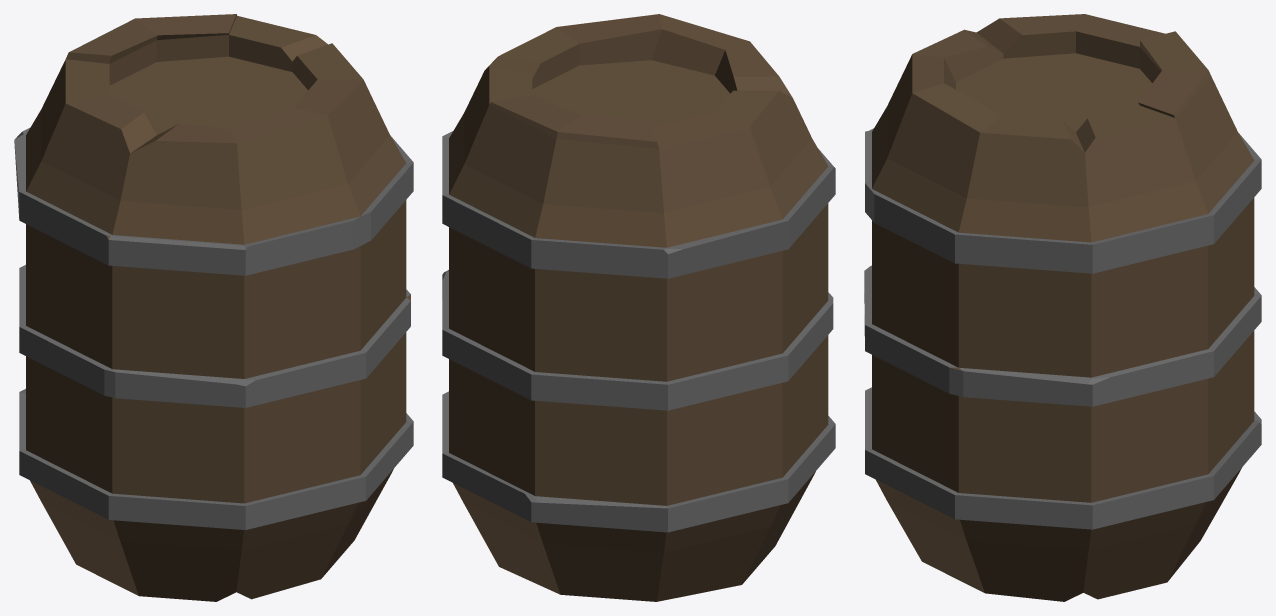
File: Low Poly Barrel#1.fbx
3 views of the same model, side by side, from view 1: azimuth 30°, elevation 25°; view 2: azimuth 150°, elevation 25°; view 3: azimuth 270°, elevation 25° (orthographic).
Parts seen in each view (by area): view 1: Low Poly Barrel #1; view 2: Low Poly Barrel #1; view 3: Low Poly Barrel #1.
Part boxes in pixels (bbox=[...]): Low Poly Barrel #1: bbox=[14, 14, 413, 601]; Low Poly Barrel #1: bbox=[442, 14, 835, 601]; Low Poly Barrel #1: bbox=[864, 14, 1261, 601].
Bounding box in the file's own units: 295 × 383 × 291.
